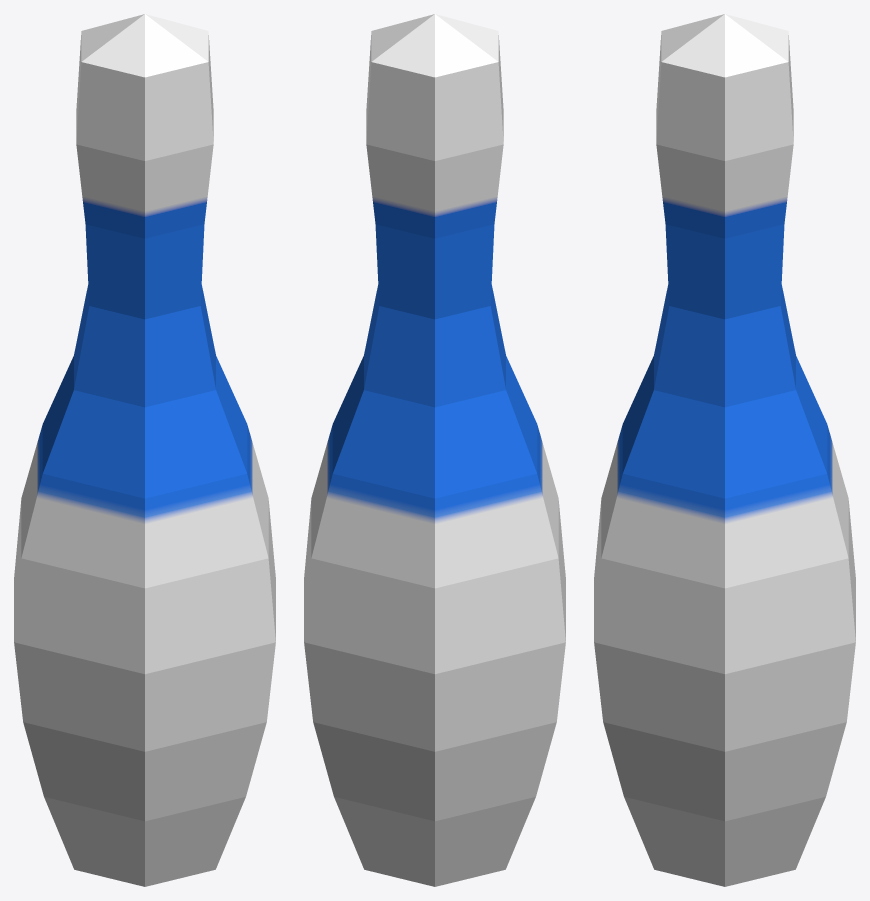
The model's file is bowling pin.fbx.
The picture shows the model from 3 angles, left to right: view 1: azimuth 30°, elevation 25°; view 2: azimuth 150°, elevation 25°; view 3: azimuth 270°, elevation 25°; orthographic projection.
Parts seen in each view (by area): view 1: Bowling_Pin; view 2: Bowling_Pin; view 3: Bowling_Pin.
Part boxes in pixels (x1,y1,x2,y2): Bowling_Pin: (14, 14, 275, 886); Bowling_Pin: (304, 14, 565, 886); Bowling_Pin: (594, 14, 855, 886).
Size of the model in its own units: 25.77 by 78.83 by 22.32.
Materials: 1 (1 with a texture image).
